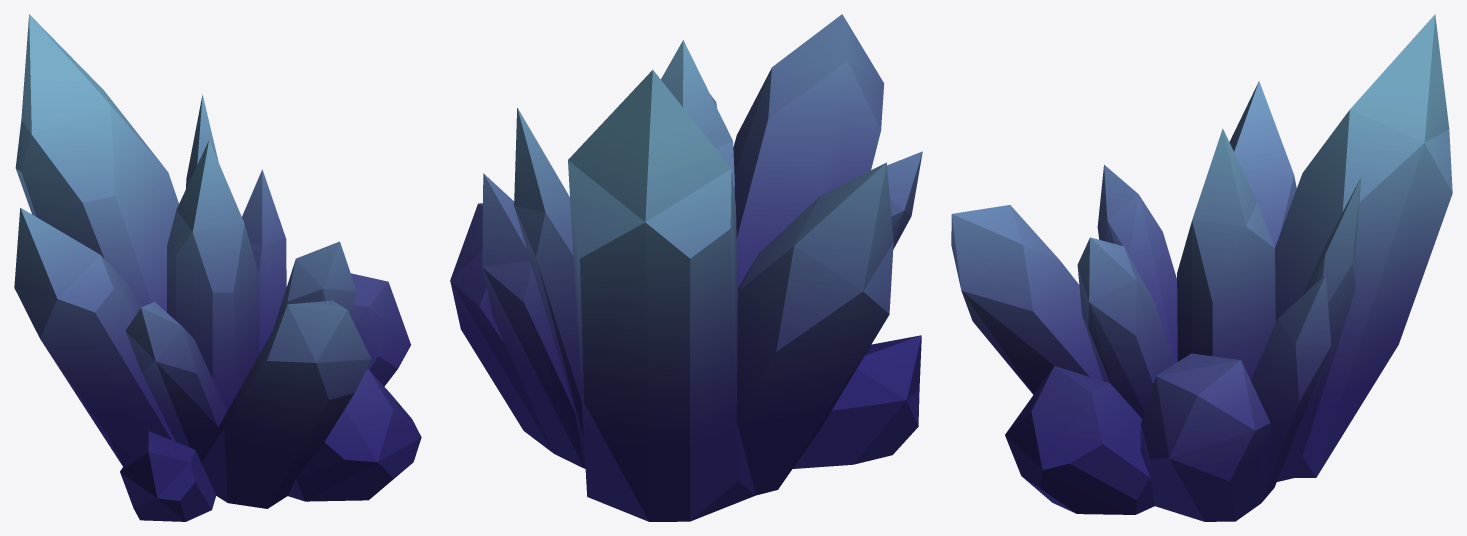
Rendered from Crystal_big.fbx.
3 views of the same model, side by side, from view 1: azimuth 30°, elevation 25°; view 2: azimuth 150°, elevation 25°; view 3: azimuth 270°, elevation 25° (orthographic). The views are drawn at different scales.
Visible parts, largest first — view 1: Crystal_big; view 2: Crystal_big; view 3: Crystal_big.
Boxes of the visible parts, <box> form: Crystal_big: <box>14,14,421,521</box>; Crystal_big: <box>450,14,922,521</box>; Crystal_big: <box>951,14,1452,521</box>.
Bounding box in the file's own units: 77.24 × 83.01 × 92.1.
